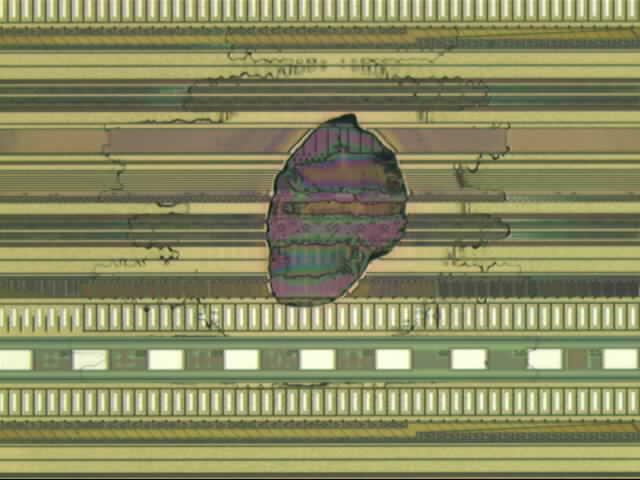PO CONTAMINATION: (94, 17, 515, 390)
